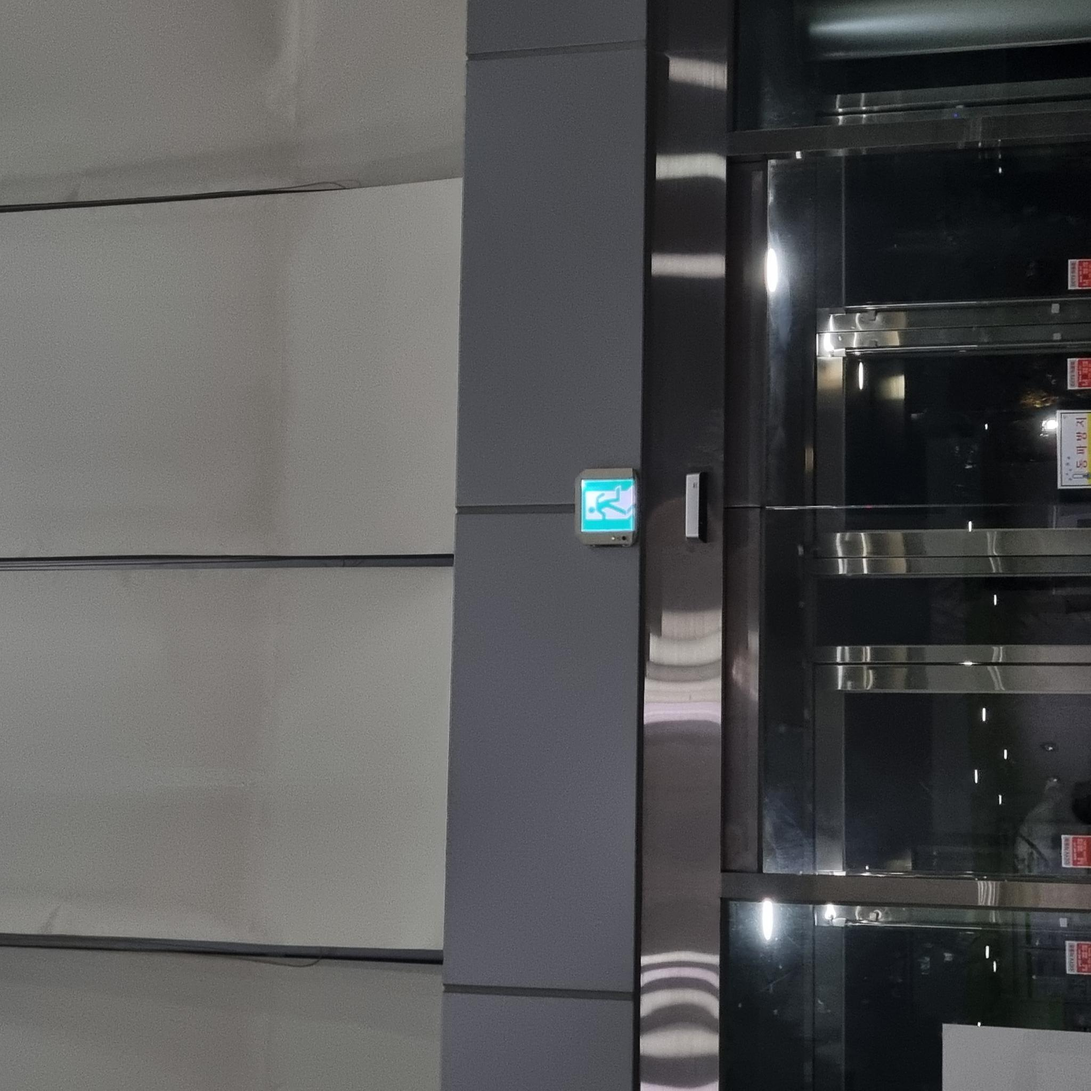emergency_exit: (574, 466, 641, 543)
